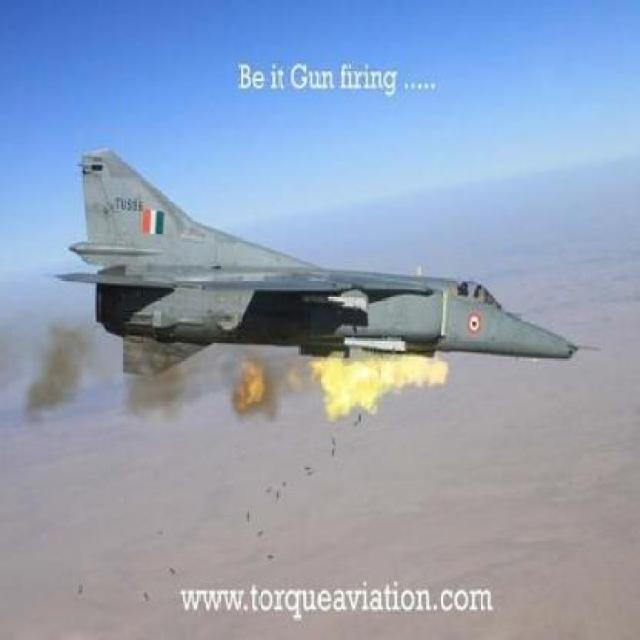Fire: (298, 360, 472, 430)
